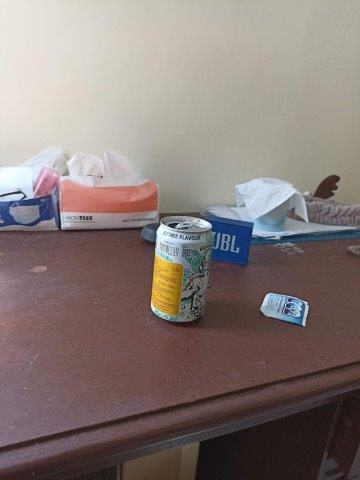kaleng: (150, 217, 214, 322)
